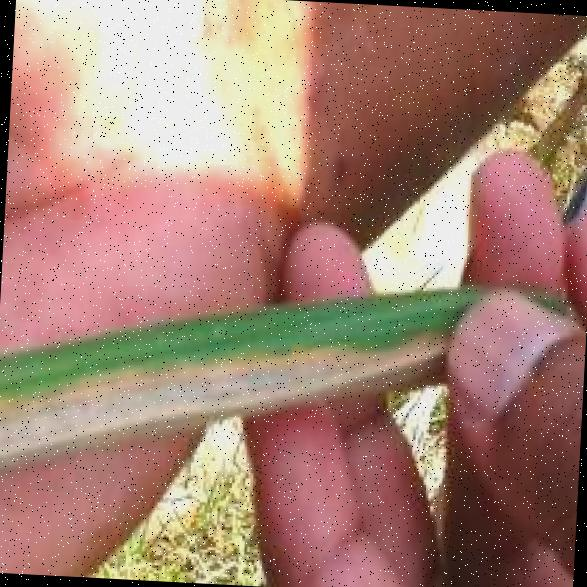Bacteria_Leaf_Blight: (44, 315, 494, 430)
